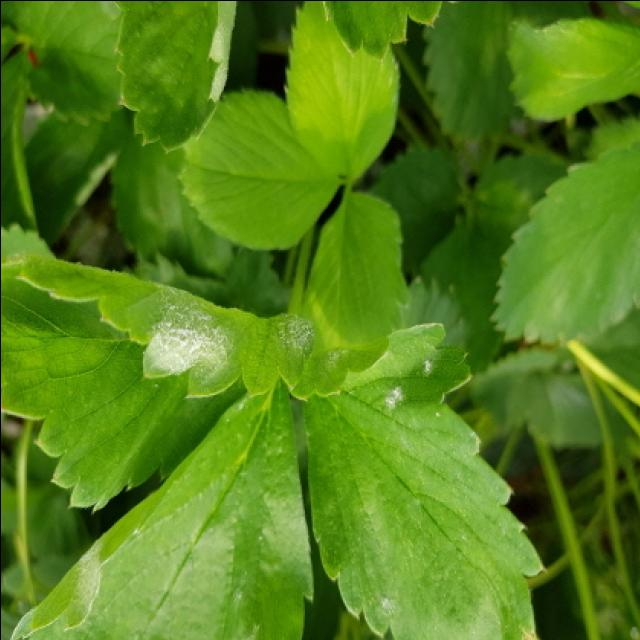Powdery Mildew Leaf: (2, 247, 317, 514), (288, 322, 547, 640), (6, 381, 312, 640), (110, 2, 237, 152)
